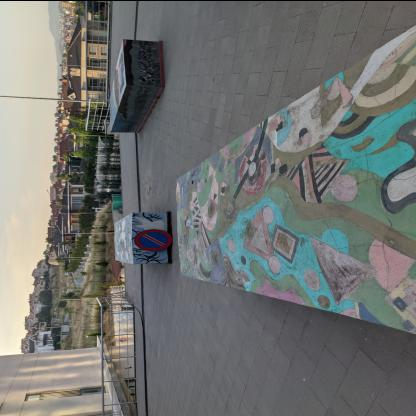No Waiting: (136, 229, 174, 251)
